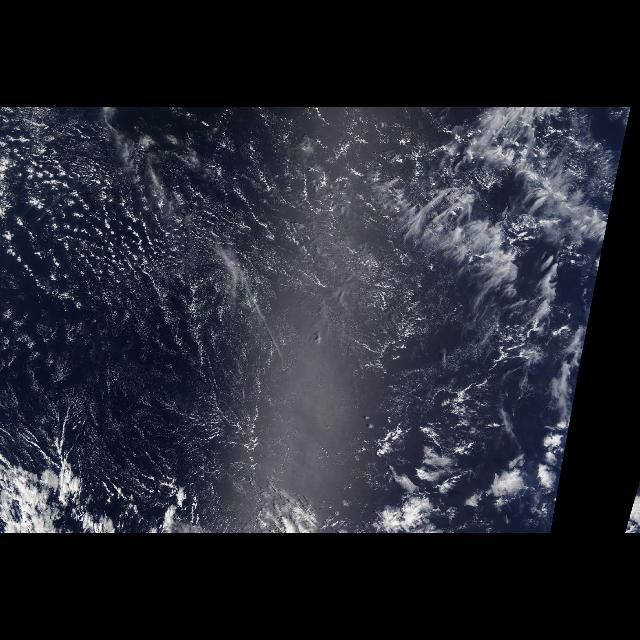Sugar: (134, 207, 272, 458)
